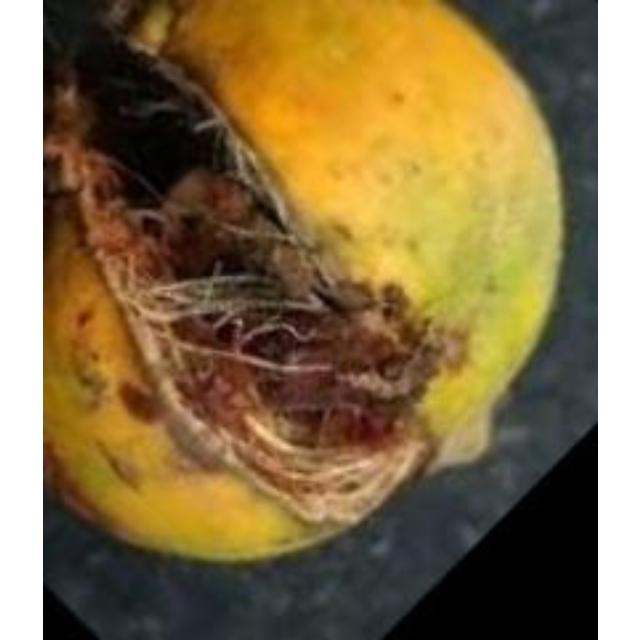damaged: (42, 0, 557, 560)
